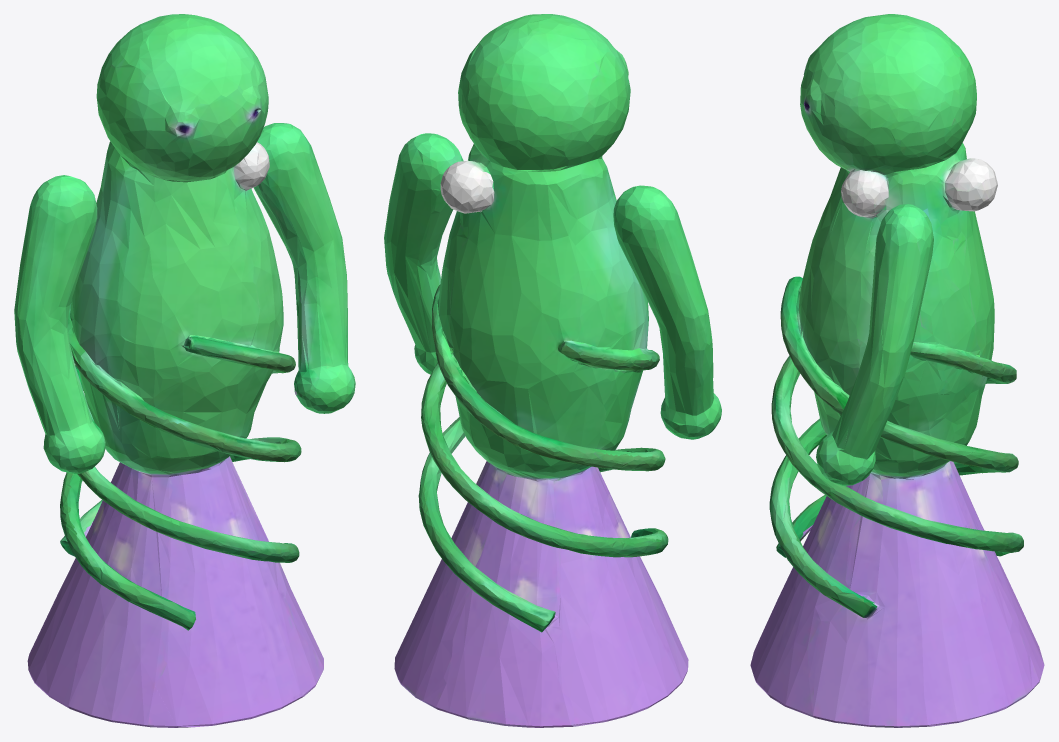
File: creature-080.lod.glb
3 views of the same model, side by side, from view 1: azimuth 30°, elevation 25°; view 2: azimuth 150°, elevation 25°; view 3: azimuth 270°, elevation 25° (orthographic).
Parts seen in each view (by area): view 1: tmpl_03uqtr.ply; view 2: tmpl_03uqtr.ply; view 3: tmpl_03uqtr.ply.
Part boxes in pixels (x1,y1,x2,y2): tmpl_03uqtr.ply: [14, 14, 355, 727]; tmpl_03uqtr.ply: [384, 14, 721, 727]; tmpl_03uqtr.ply: [750, 14, 1044, 727].
Size of the model in its own units: 1.05 by 1.99 by 0.8226.
1 material, 1 textured.
